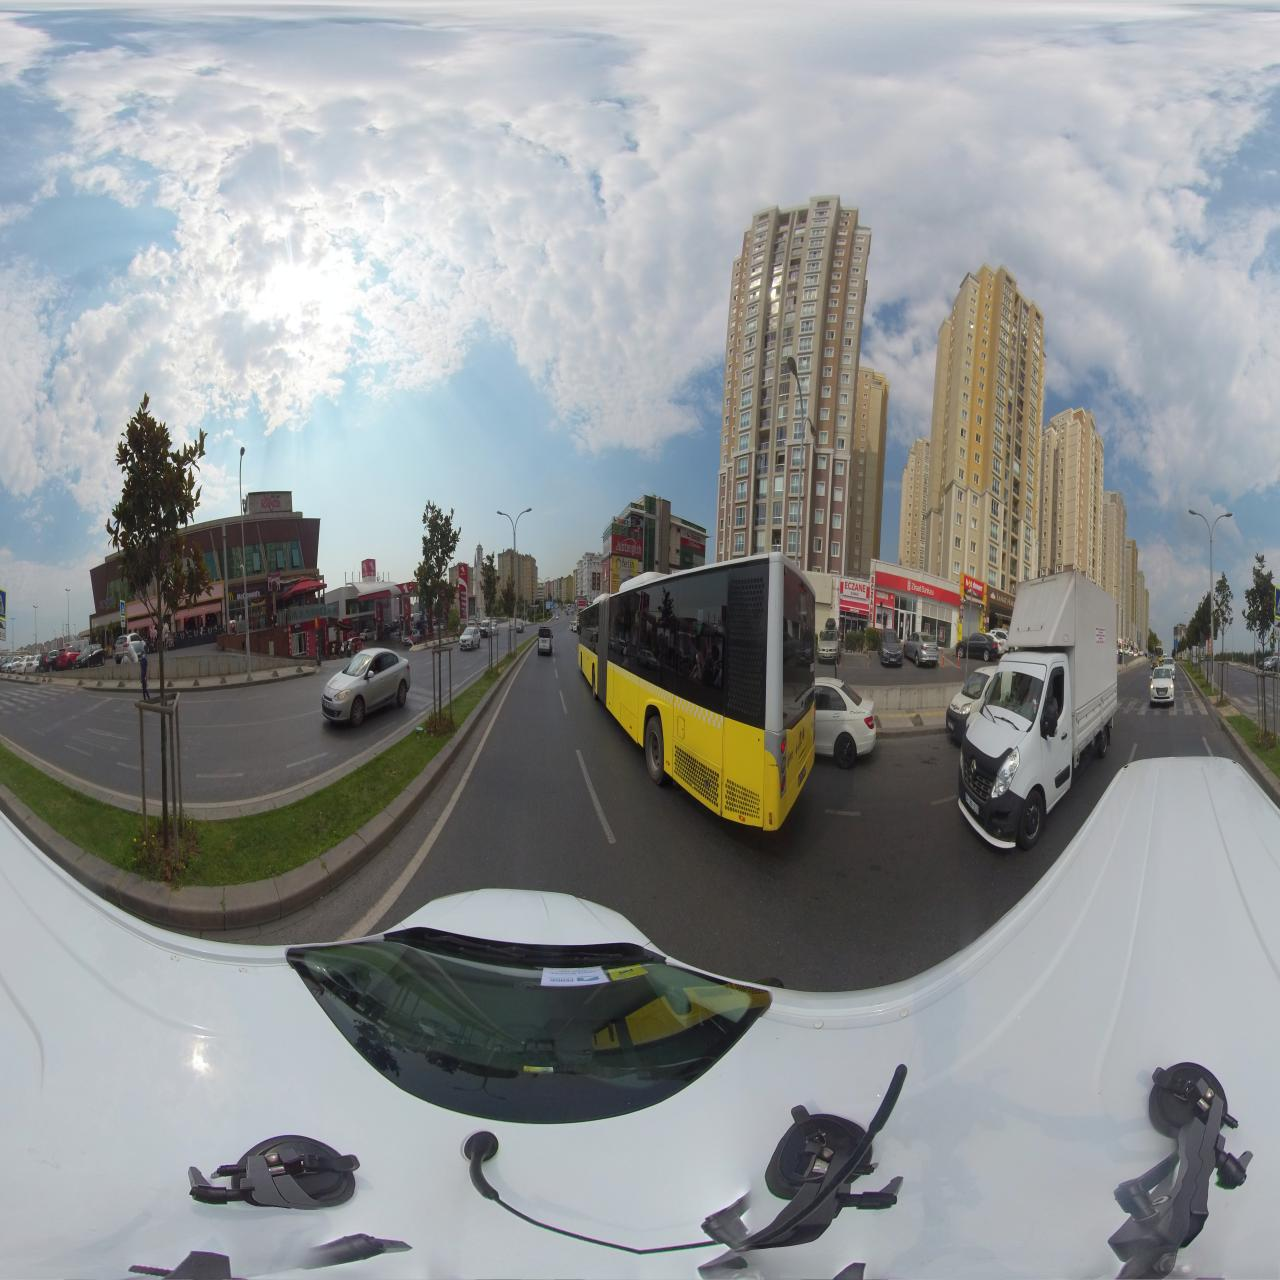SignStore: (884, 572, 954, 605), (988, 586, 1014, 610), (844, 579, 866, 600), (965, 576, 983, 595), (236, 587, 261, 600)
